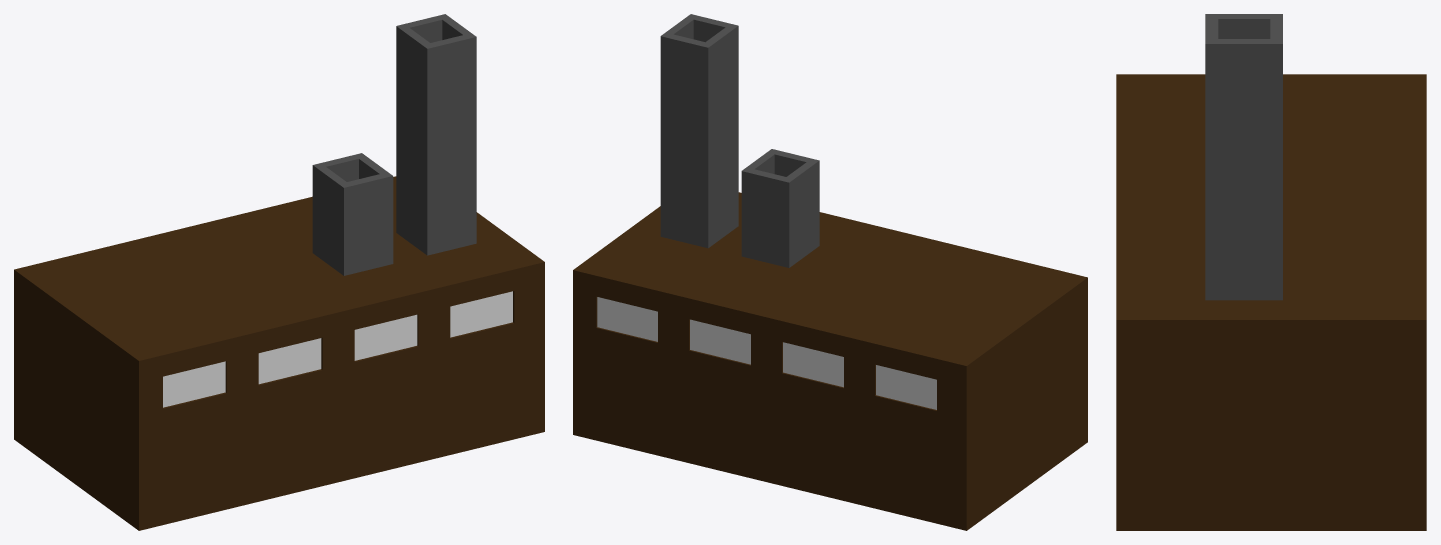
The model's file is factory.gltf.
The picture shows the model from 3 angles, left to right: view 1: azimuth 30°, elevation 25°; view 2: azimuth 150°, elevation 25°; view 3: azimuth 270°, elevation 25°; orthographic projection. The views are drawn at different scales.
Visible parts, largest first — view 1: Main, Chimney, Chimney2, Windows; view 2: Main, Chimney, Chimney2, Windows; view 3: Main, Chimney.
Part boxes in pixels (x1,y1,x2,y2): Main: (14,176,544,530); Chimney: (396,14,476,255); Chimney2: (312,153,393,275); Windows: (163,291,512,407); Main: (573,192,1087,530); Chimney: (660,14,738,248); Chimney2: (741,149,819,267); Windows: (597,297,936,409); Main: (1116,74,1426,530); Chimney: (1205,14,1282,300).
Size of the model in its own units: 15 by 13.3 by 8.
